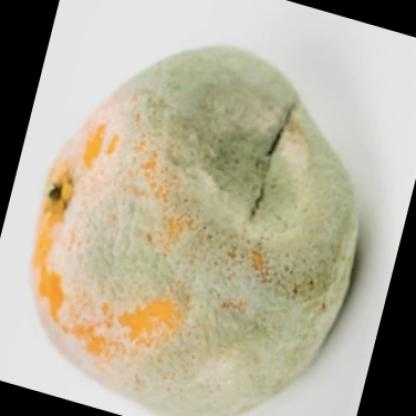rotten: (34, 48, 361, 416)
